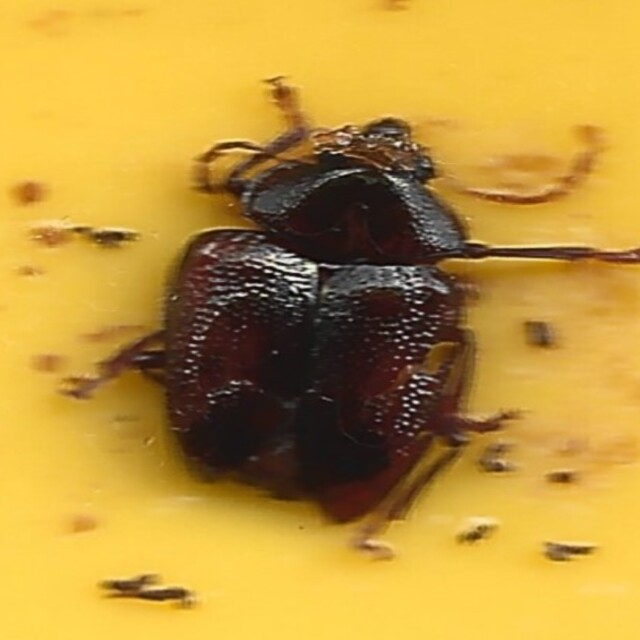Coleoptera: (156, 113, 484, 527)
